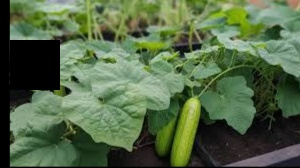cucumber: (168, 97, 201, 164)
cucumber_plant: (37, 41, 148, 148)
